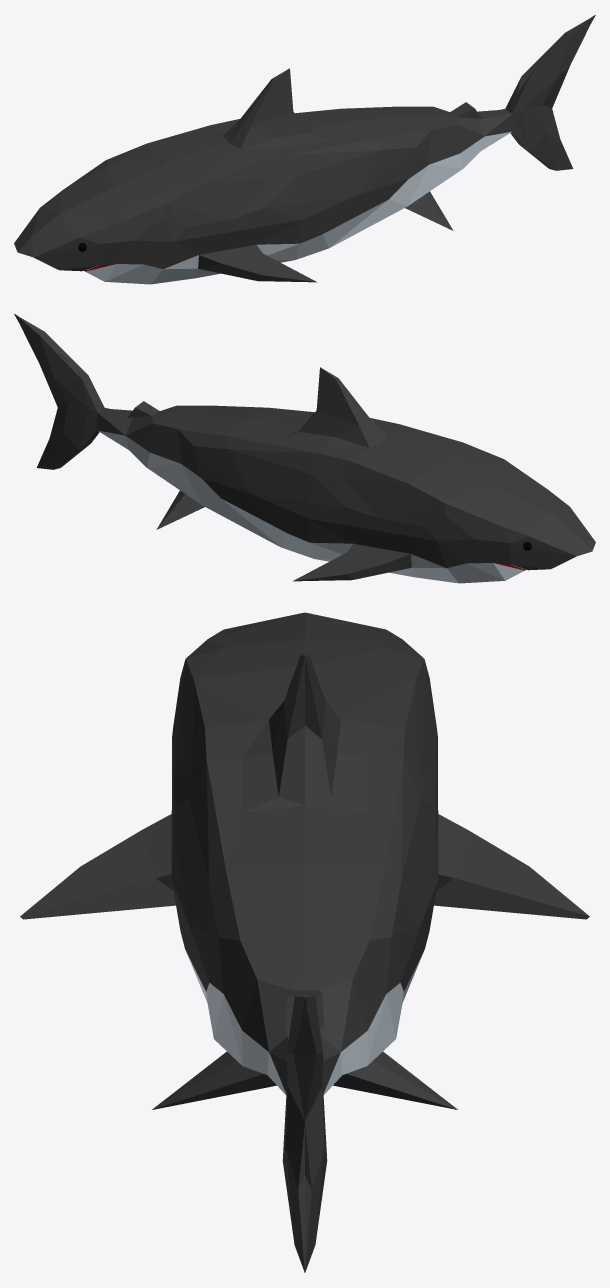
Rendered from LowPolyShark.fbx.
3 views of the same model, one above another, from view 1: azimuth 30°, elevation 25°; view 2: azimuth 150°, elevation 25°; view 3: azimuth 270°, elevation 25° (orthographic). The views are drawn at different scales.
Parts seen in each view (by area): view 1: Sharkbody; view 2: Sharkbody; view 3: Sharkbody.
Boxes of the visible parts, <box> form: Sharkbody: <box>14,15,595,284</box>; Sharkbody: <box>14,314,595,583</box>; Sharkbody: <box>20,612,589,1272</box>.
Size of the model in its own units: 888 by 255 by 379.
